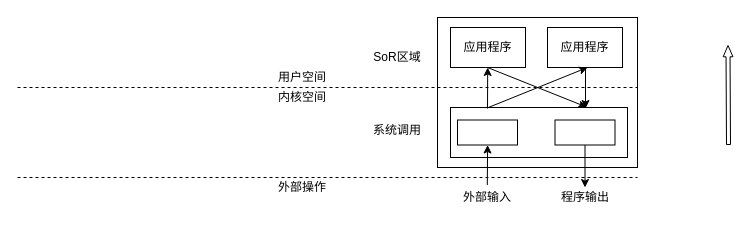
Some shapes in this 751 by 225 pixel diagram are drawn without their labels. Here are the shapes that lost their labels. From the top down, the centre of each, then its label:
the point at 487,132: 输入复制
the point at 584,132: 输出比较
